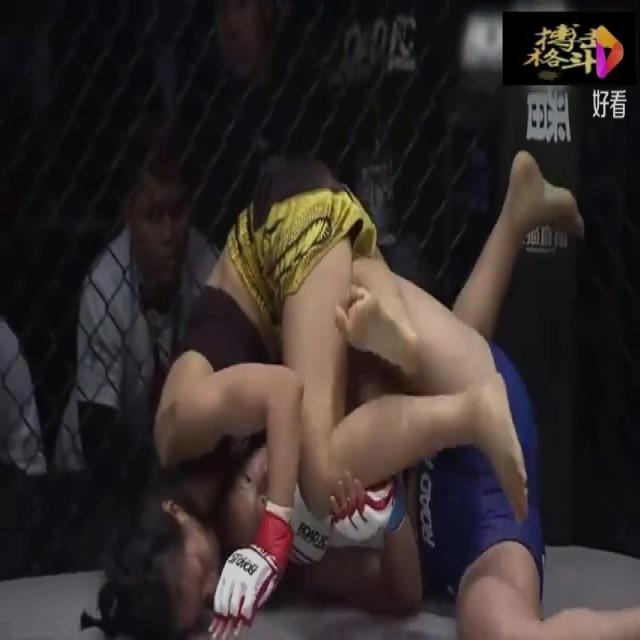fight: (66, 104, 635, 639)
